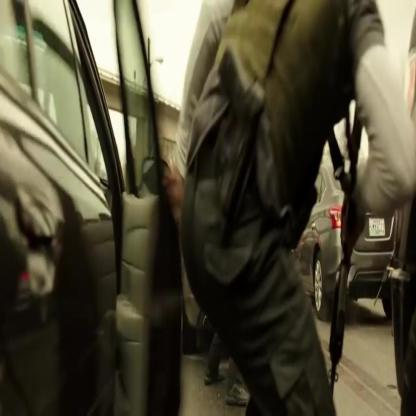Gun: (320, 91, 368, 414)
Pistol: (182, 22, 273, 258)
